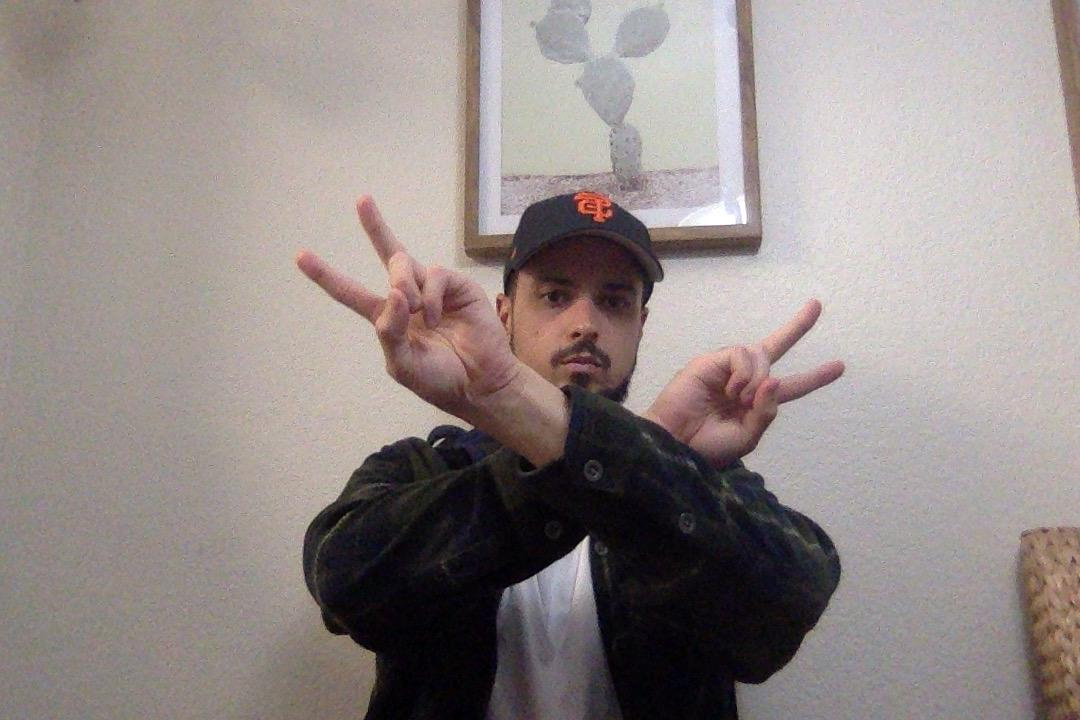Peace: (293, 195, 520, 408), (650, 298, 858, 457)
